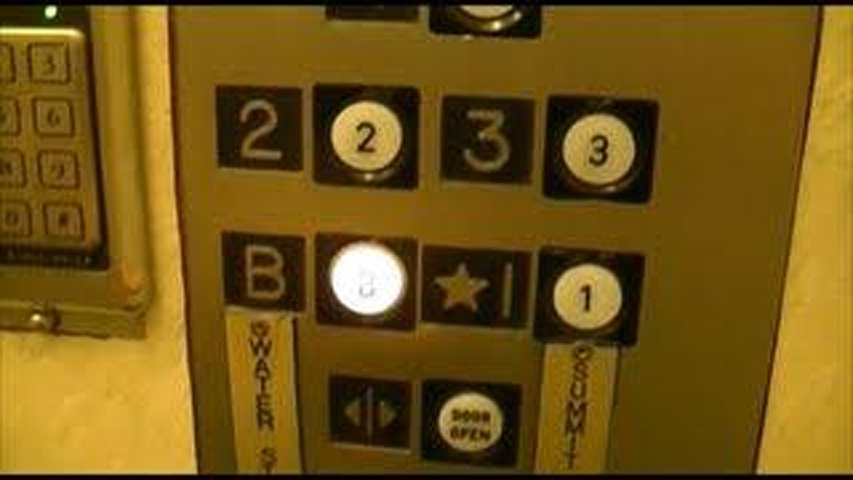1: (534, 246, 645, 345)
2: (312, 82, 420, 191), (215, 84, 304, 172)
3: (542, 94, 660, 206), (439, 93, 535, 187), (25, 40, 70, 84)
6: (32, 96, 74, 137)
9: (38, 150, 79, 188)
B: (221, 228, 308, 316)
blur: (315, 232, 417, 332), (43, 202, 84, 238)
open: (329, 375, 413, 453)
s1: (420, 242, 532, 330)
text_open: (420, 376, 521, 469)
